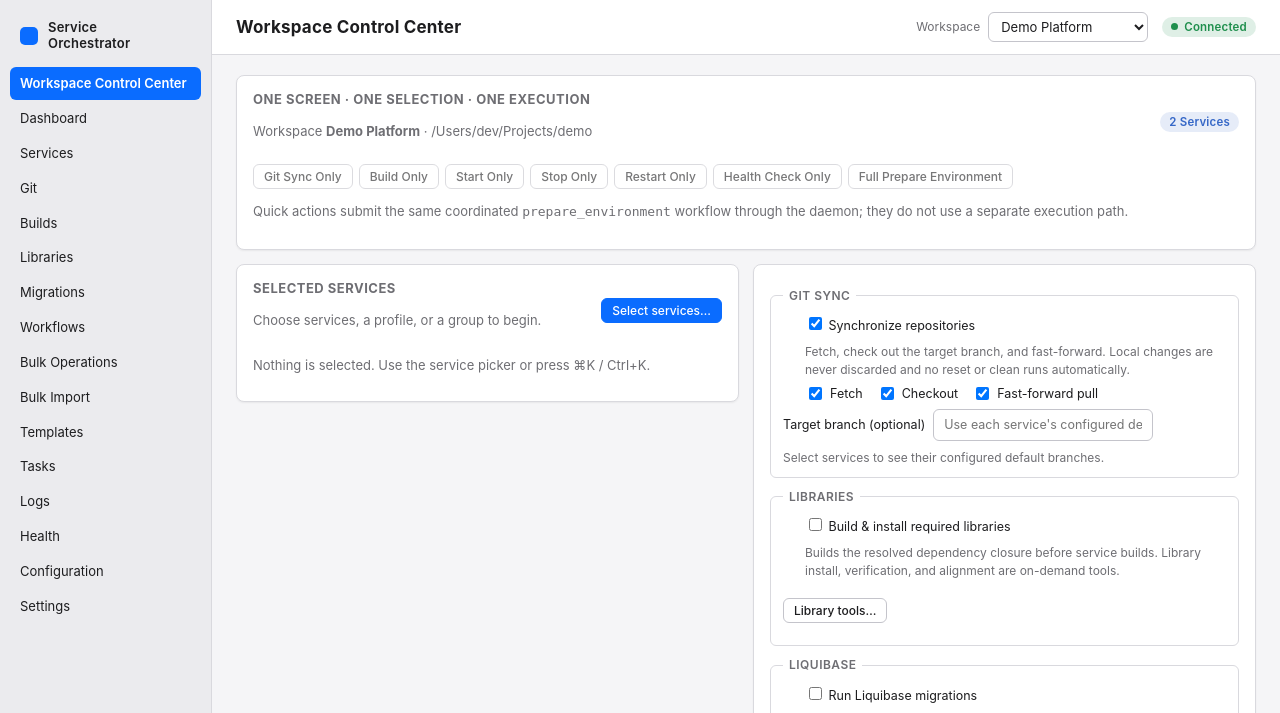
Test case: control center operations › shows only the controls relevant to the current operation
This screenshot has width=1280, height=713.
Check: the element named "Service selection" is shown, box [236,264,739,402]
Check: the field labelled "Target branch" is shown, box [933,409,1153,441]
Click the checkbox named "Git sync" at point(816, 324), box [809,317,822,330]
(page scrolled)
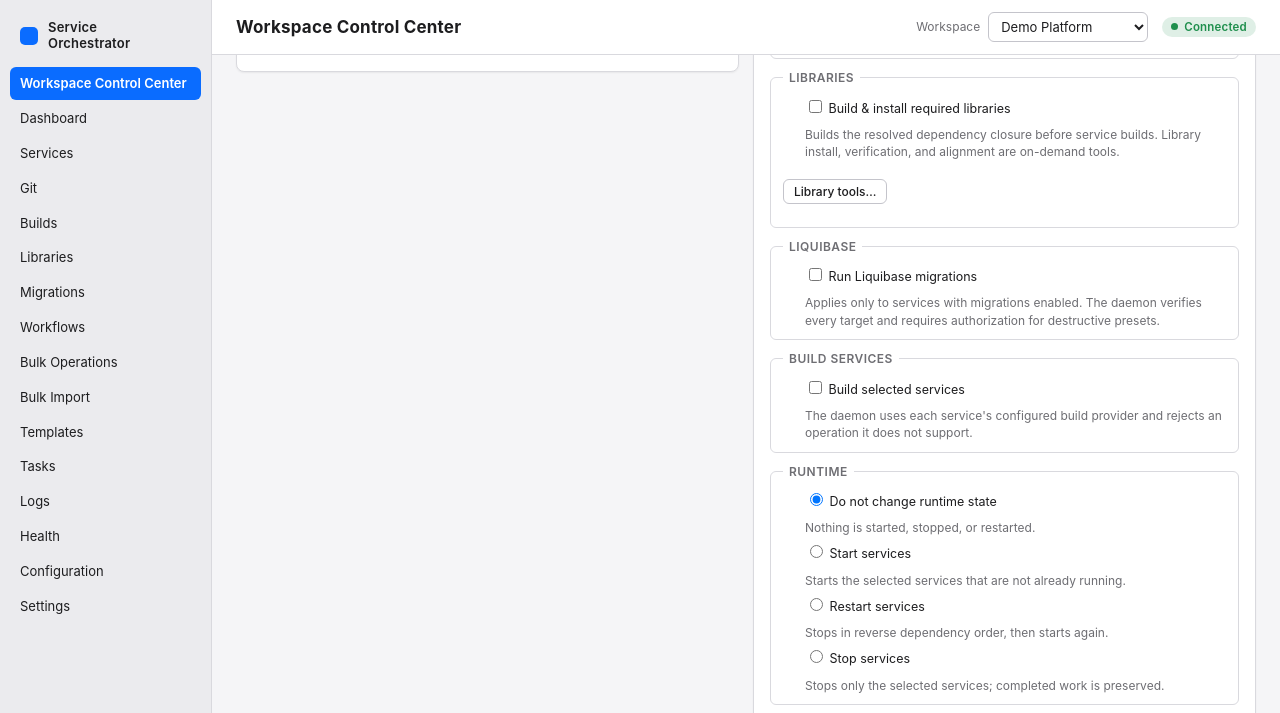
Check: the checkbox labelled "Git fetch" is gone
Click the checkbox named "Build services" at point(816, 387), box [809,381,822,394]
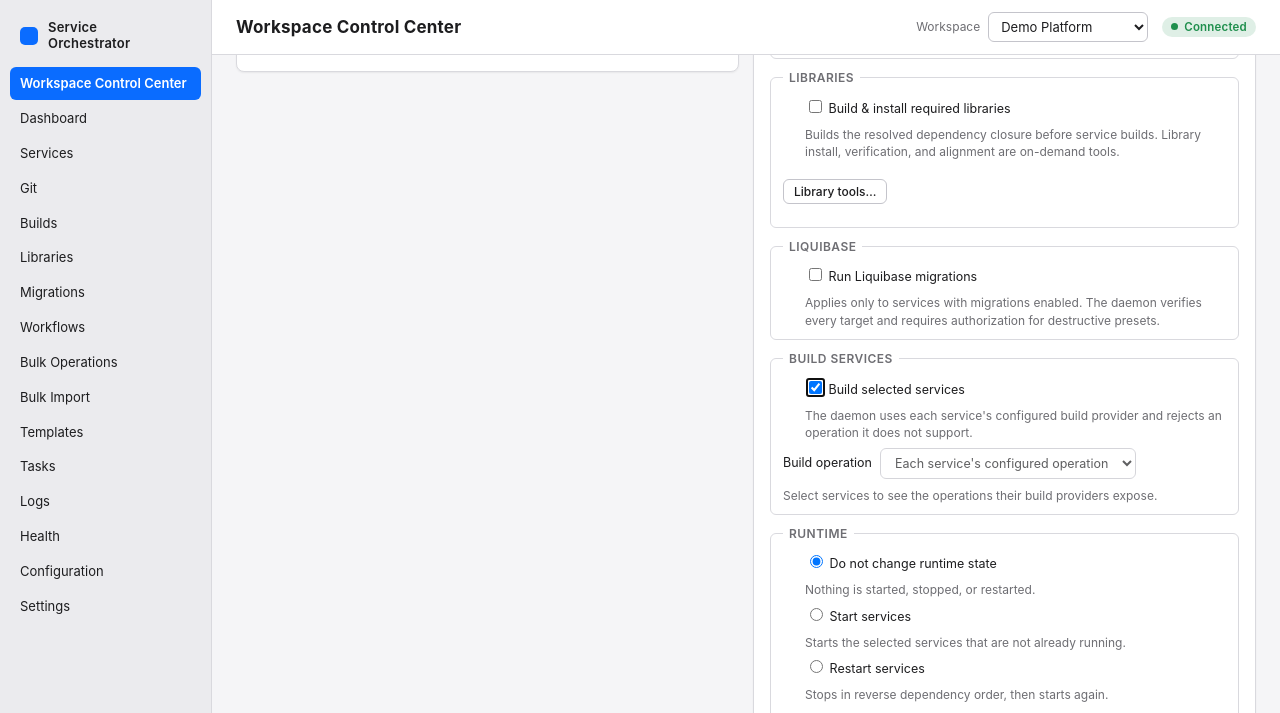
Check: the dropdown labelled "Build operation" is shown, box [880,448,1136,478]
Click the checkbox labelled "Run Liquibase migrations" at point(816, 275), box [809,268,822,281]
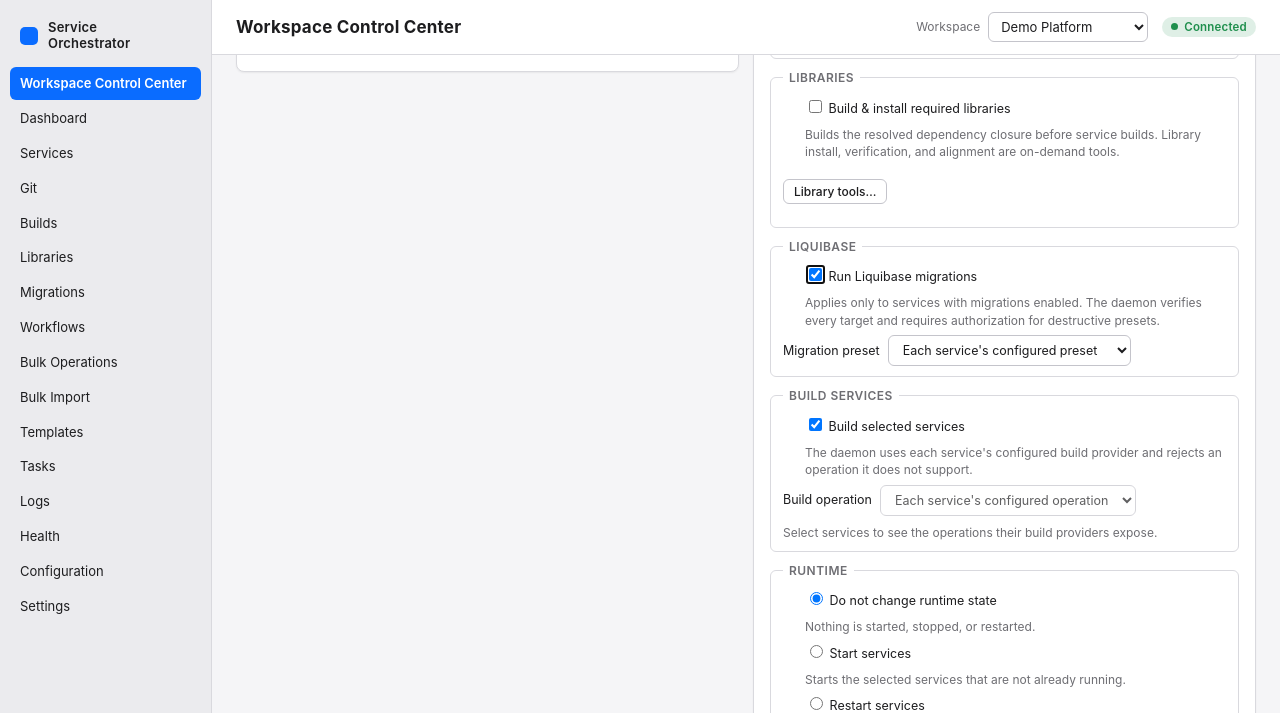
Check: the dropdown named "Liquibase preset" is shown, box [888,335,1131,366]
